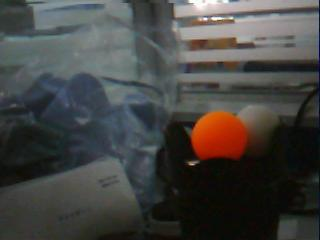oball: (192, 111, 247, 158)
